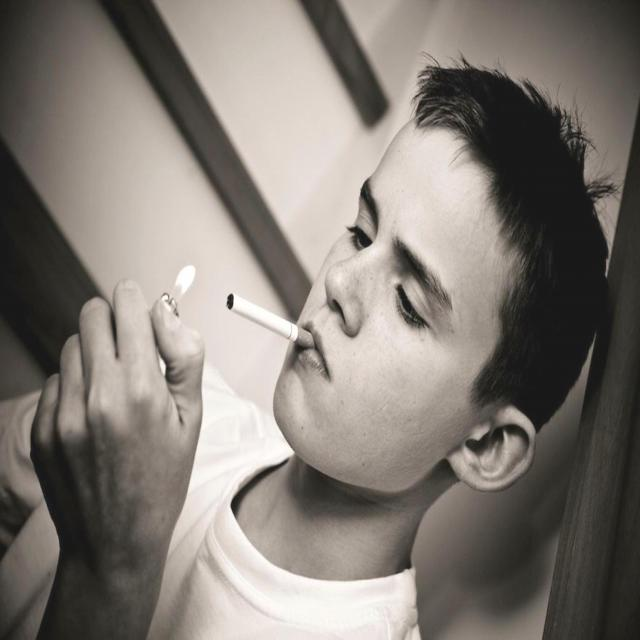smoke: (224, 293, 315, 346)
